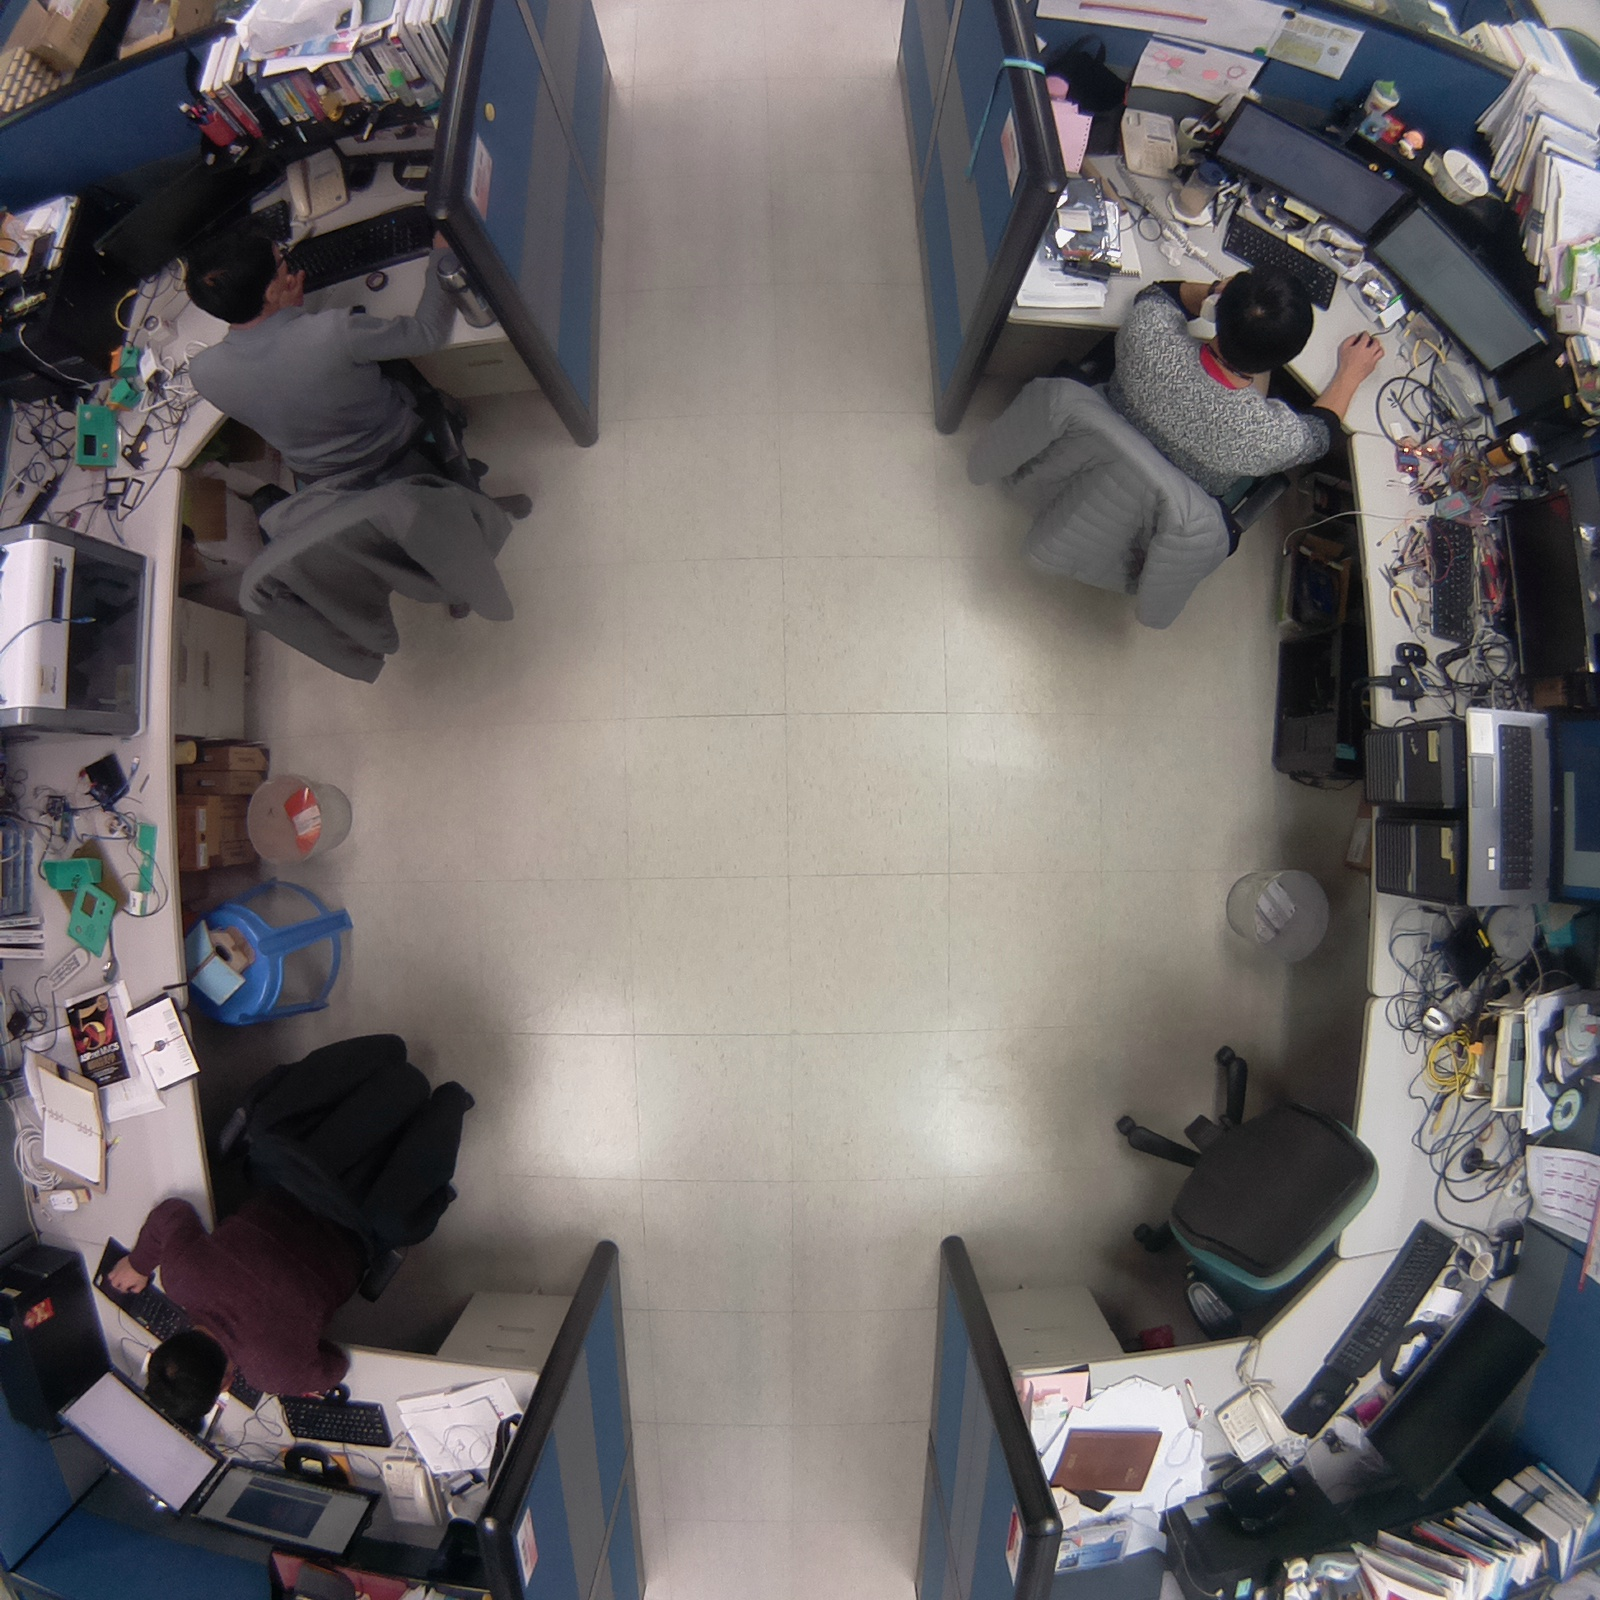chair: (1099, 1032, 1396, 1351)
sitting: (170, 204, 544, 700), (952, 251, 1393, 645), (100, 1012, 494, 1442)
